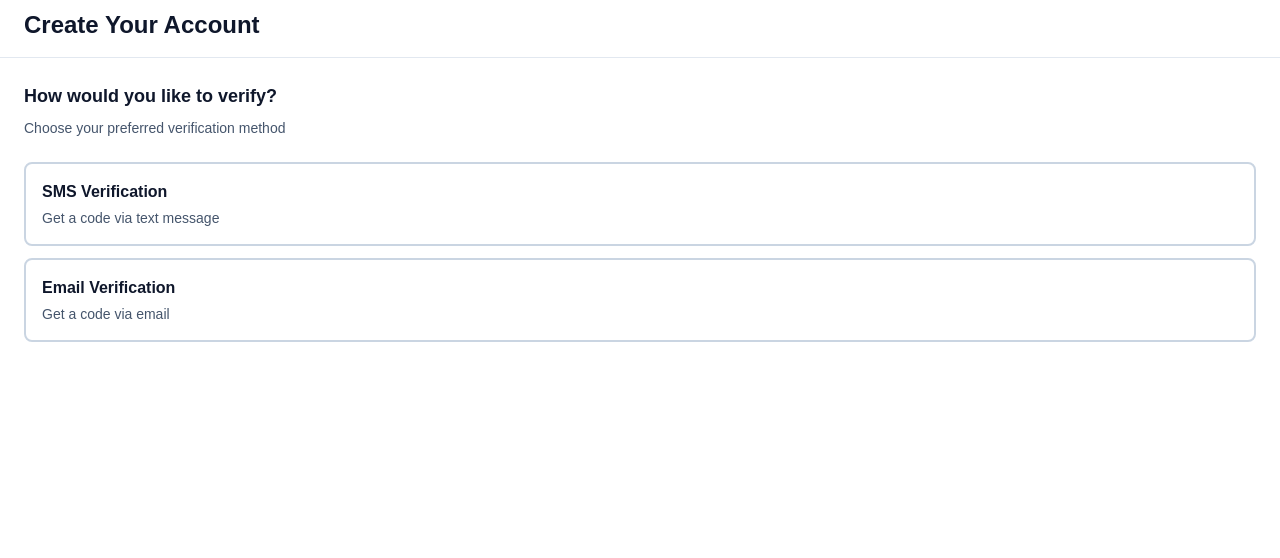
Test case: Customer Signup Page › Channel Selection Step › transitions to details step when Email is selected
Click the button "Email Verification Get a code via email" at (109, 288), box [24,258,1256,342]
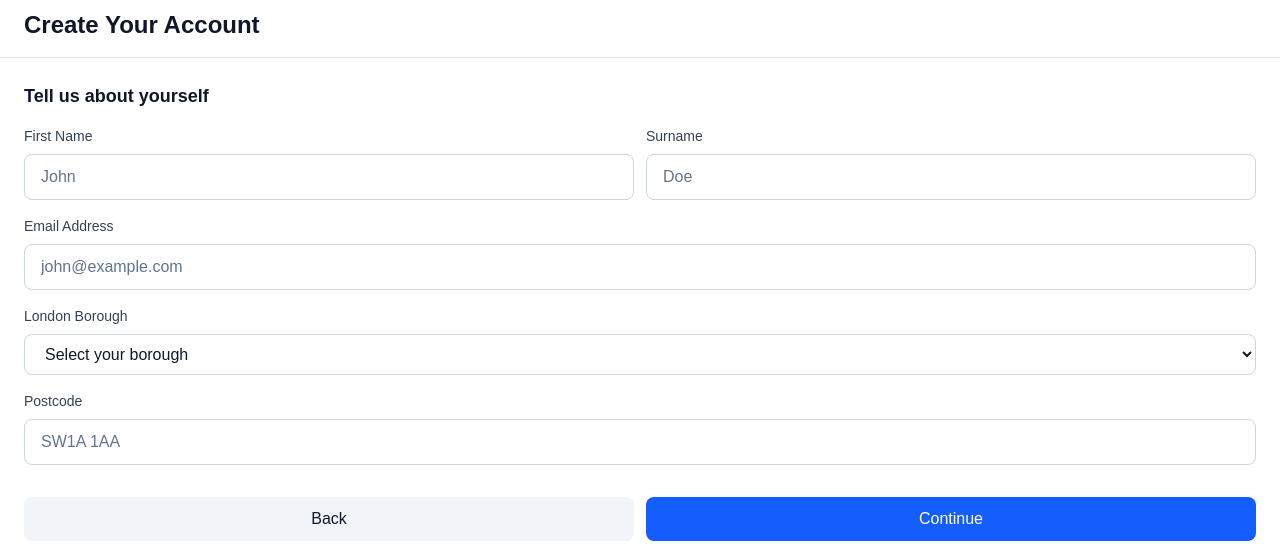
Now the heading "Tell us about yourself" is shown, box [24,86,209,106]
